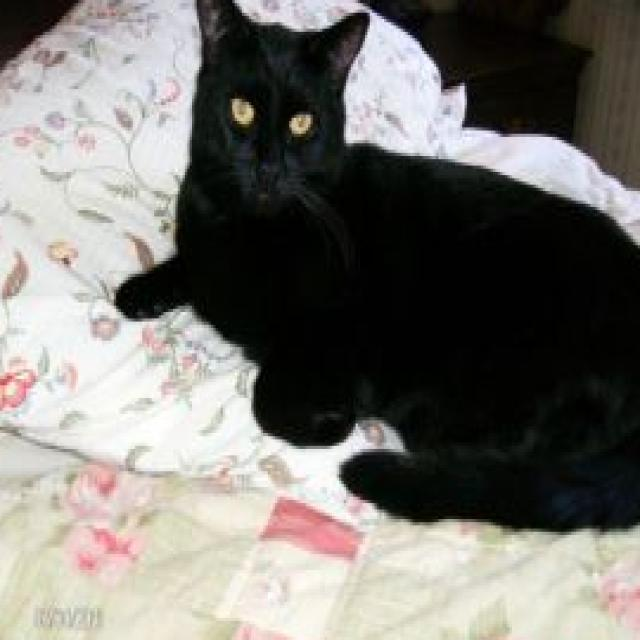Bombay: (111, 0, 639, 541)
